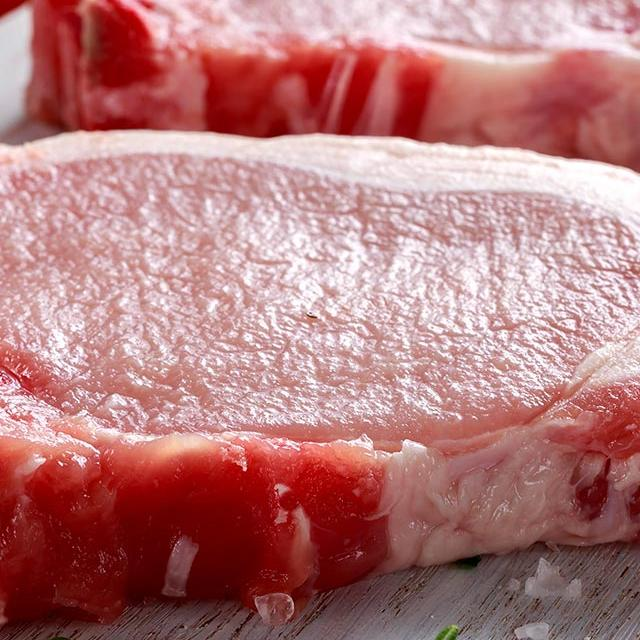beef: (0, 130, 640, 636), (24, 0, 640, 196)
